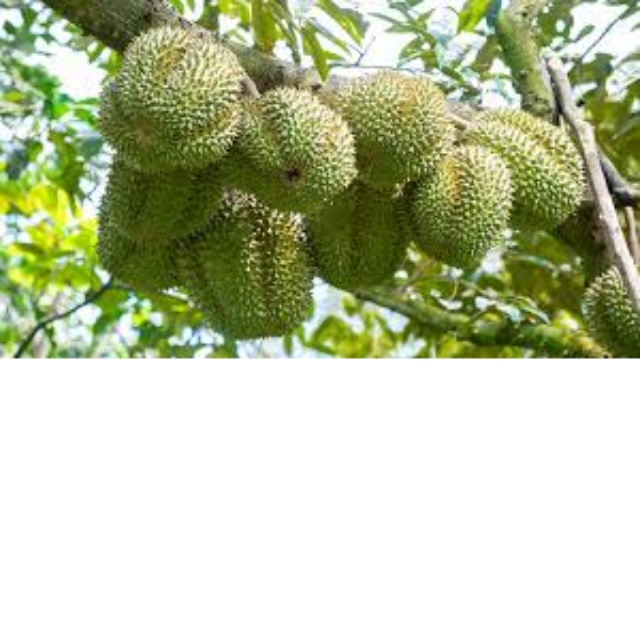sau_rieng: (98, 24, 238, 168), (181, 203, 313, 335), (464, 109, 586, 223), (241, 88, 358, 201), (408, 149, 509, 267), (349, 77, 452, 187)
